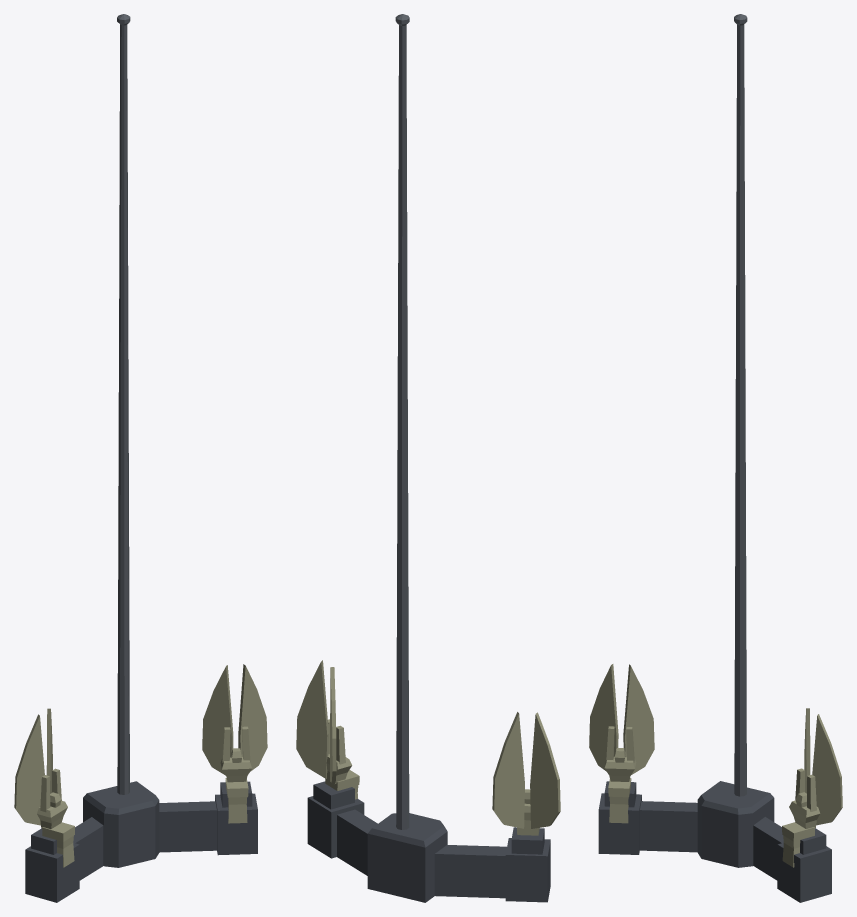
The model's file is lv-winged-figures-of-the-republic.glb.
3 renders of one model, left to right at view 1: azimuth 30°, elevation 25°; view 2: azimuth 150°, elevation 25°; view 3: azimuth 330°, elevation 25°, orthographic. The views are drawn at different scales.
Visible parts, largest first — view 1: Winged Figures of the Republic; view 2: Winged Figures of the Republic; view 3: Winged Figures of the Republic.
Part boxes in pixels (box(x1,y1,x2,y2)): Winged Figures of the Republic: box(14, 14, 267, 902); Winged Figures of the Republic: box(296, 14, 560, 902); Winged Figures of the Republic: box(589, 14, 842, 902).
Bounding box in the file's own units: 13.67 × 43.4 × 4.42.
